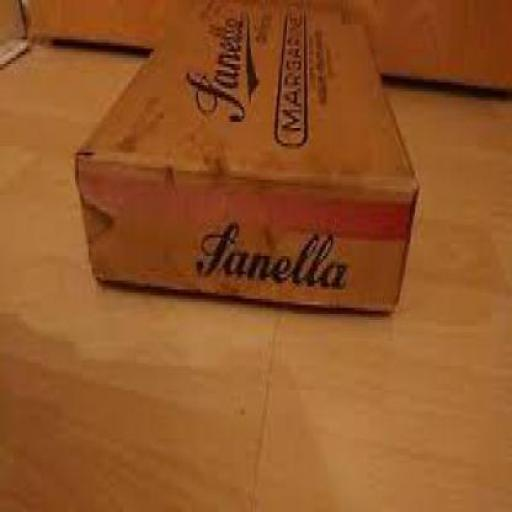cardboard: (73, 3, 417, 315)
